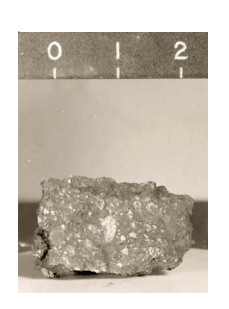Breccia: (0, 150, 186, 269)
